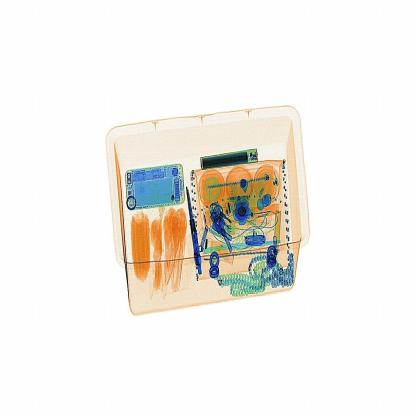gun: (182, 180, 212, 286)
